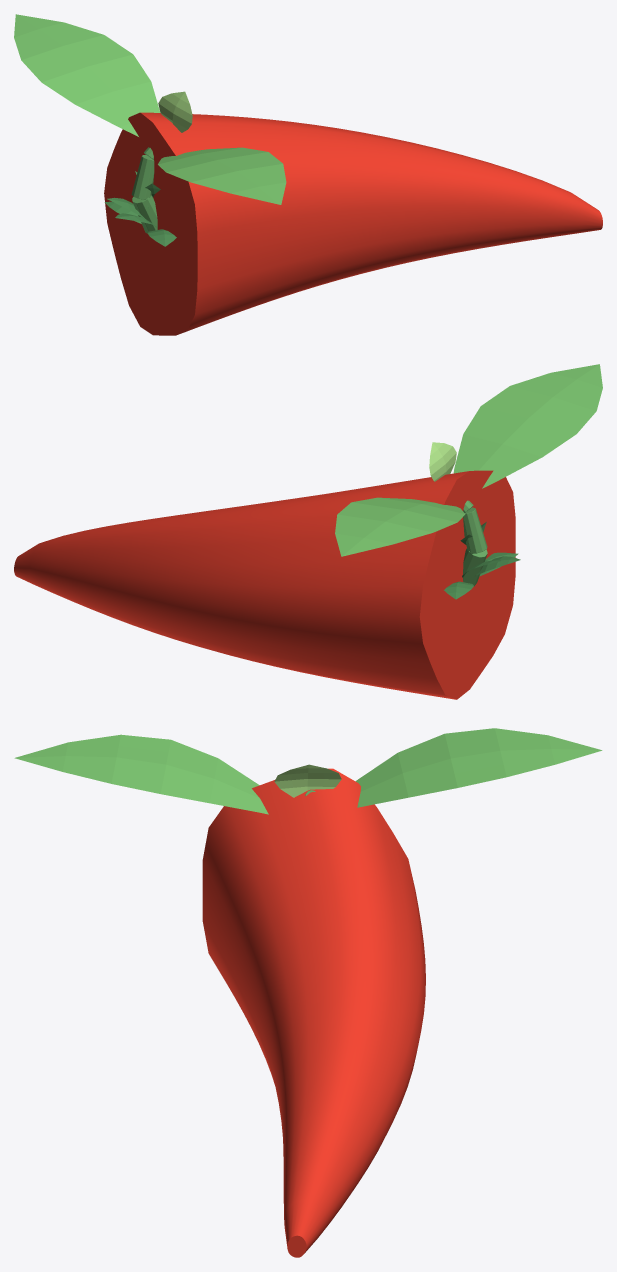
File: GiantPepper.glb
The picture shows the model from 3 angles, top to bottom: view 1: azimuth 30°, elevation 25°; view 2: azimuth 150°, elevation 25°; view 3: azimuth 270°, elevation 25°; orthographic projection. The views are drawn at different scales.
Parts seen in each view (by area): view 1: FTF_Crop_GiantRedPepper_Lying_Static; view 2: FTF_Crop_GiantRedPepper_Lying_Static; view 3: FTF_Crop_GiantRedPepper_Lying_Static.
Part boxes in pixels (x1,y1,x2,y2): FTF_Crop_GiantRedPepper_Lying_Static: (14, 14, 602, 335); FTF_Crop_GiantRedPepper_Lying_Static: (14, 364, 602, 699); FTF_Crop_GiantRedPepper_Lying_Static: (14, 728, 602, 1257).
Size of the model in its own units: 8.73 by 3.98 by 7.94.
